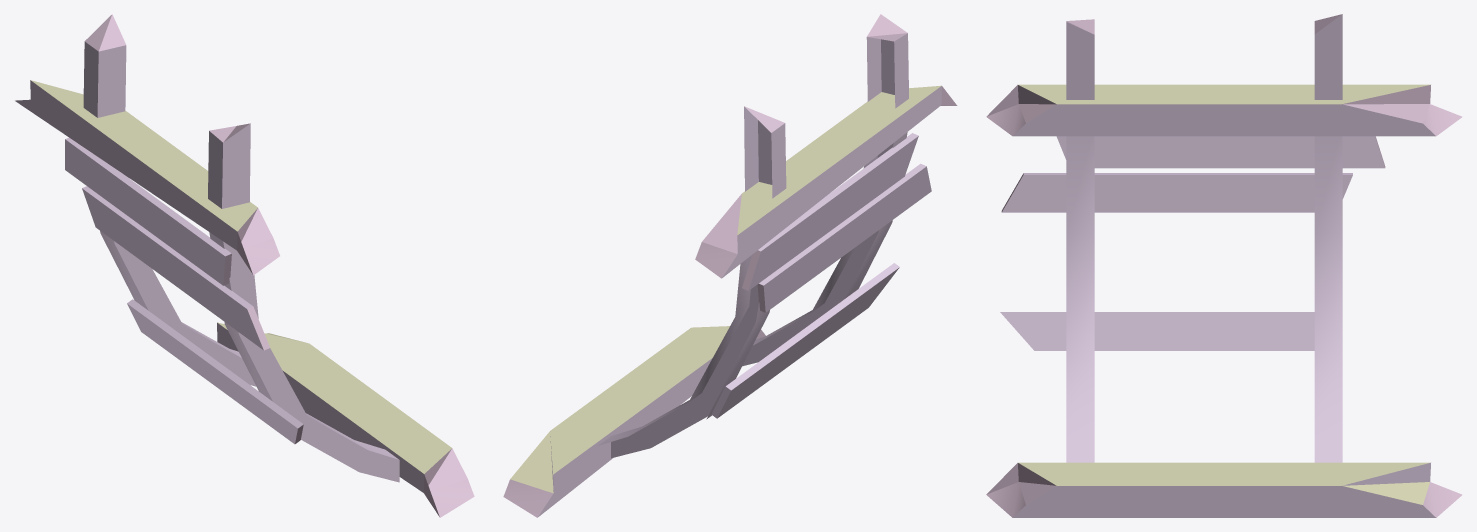
Rendered from ytlds_Object (14).fbx.
3 views of the same model, side by side, from view 1: azimuth 30°, elevation 25°; view 2: azimuth 150°, elevation 25°; view 3: azimuth 270°, elevation 25° (orthographic).
Visible parts, largest first — view 1: Object14; view 2: Object14; view 3: Object14.
Boxes of the visible parts, bbox=[...] form: Object14: bbox=[15, 14, 474, 517]; Object14: bbox=[503, 14, 957, 517]; Object14: bbox=[986, 14, 1462, 517].
Bounding box in the file's own units: 178 × 297 × 314.
